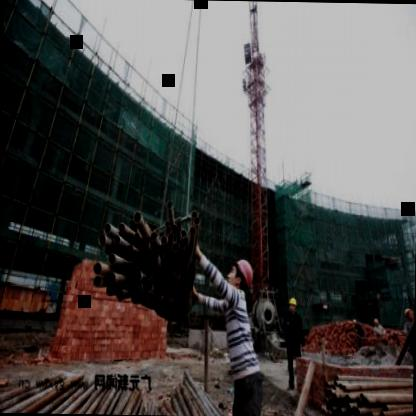helmet: (224, 251, 258, 298), (286, 296, 298, 317)
